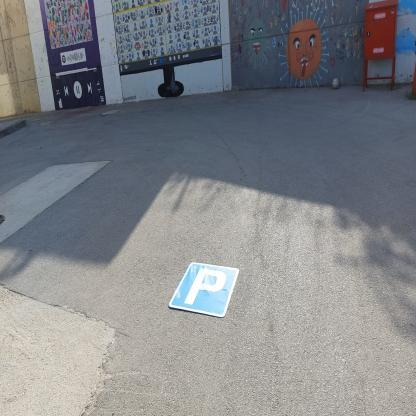parking: (168, 260, 242, 318)
